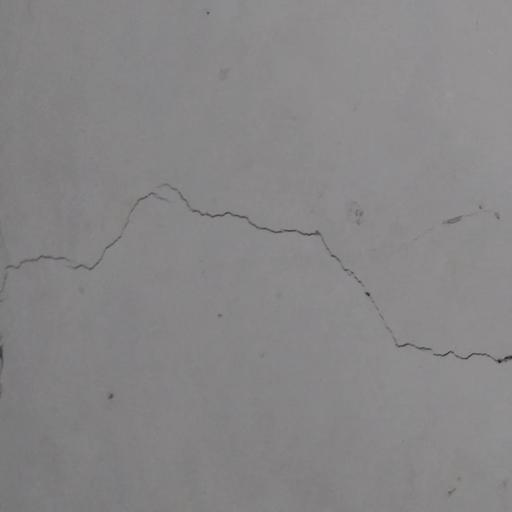minor_crack: (2, 164, 512, 367)
